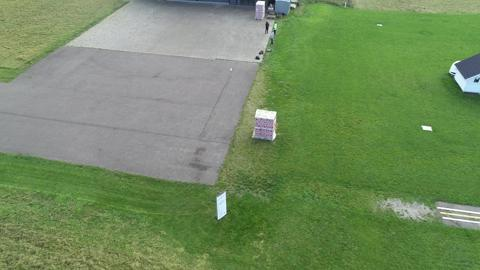RockwoolPallet: (255, 0, 266, 21)
